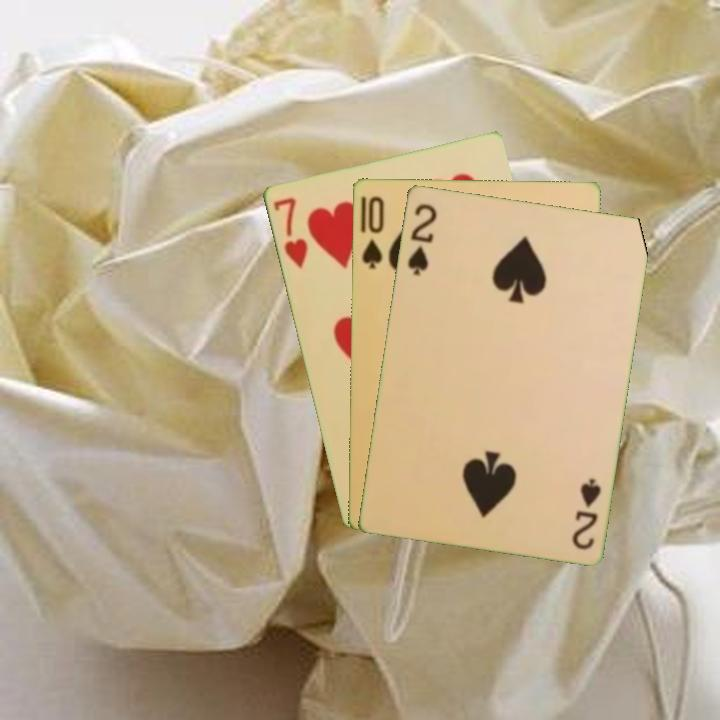10s: (358, 192, 386, 271)
2s: (403, 199, 439, 278), (568, 474, 604, 552)
7h: (269, 193, 310, 272)
